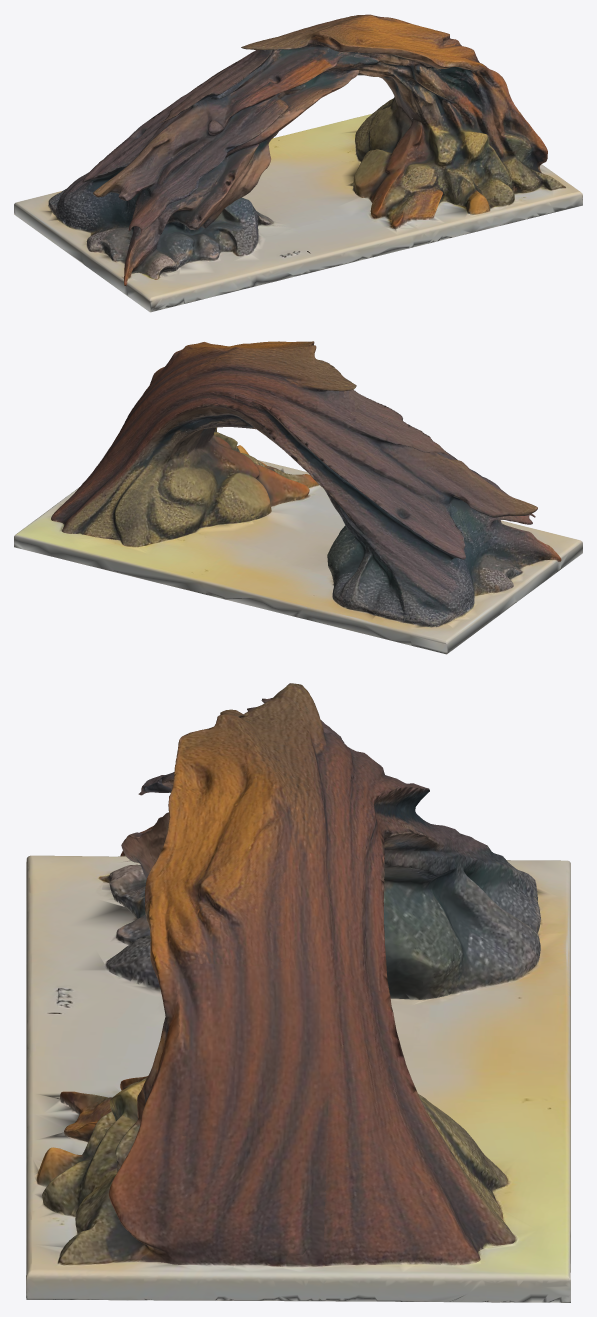
File: cauvong1-v5.glb
3 renders of one model, top to bottom at view 1: azimuth 30°, elevation 25°; view 2: azimuth 150°, elevation 25°; view 3: azimuth 270°, elevation 25°, orthographic. The views are drawn at different scales.
Parts seen in each view (by area): view 1: tripo_node_9c086a0e-7916-4f8f-9727-0aaeba94dd8f; view 2: tripo_node_9c086a0e-7916-4f8f-9727-0aaeba94dd8f; view 3: tripo_node_9c086a0e-7916-4f8f-9727-0aaeba94dd8f.
Boxes of the visible parts, x1=… form: tripo_node_9c086a0e-7916-4f8f-9727-0aaeba94dd8f: x1=14, y1=14, x2=582, y2=312; tripo_node_9c086a0e-7916-4f8f-9727-0aaeba94dd8f: x1=14, y1=341, x2=582, y2=654; tripo_node_9c086a0e-7916-4f8f-9727-0aaeba94dd8f: x1=26, y1=683, x2=570, y2=1302.
Bounding box in the file's own units: 0.9994 × 0.4187 × 0.539.
1 material, 1 textured.
